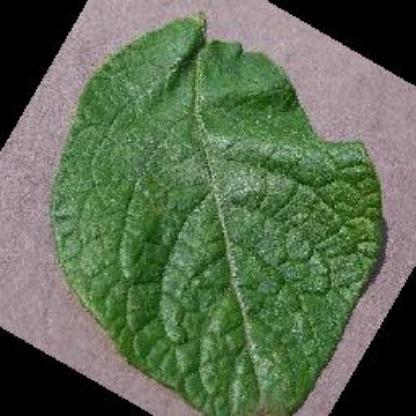Healthy-plant: (47, 24, 413, 398)
